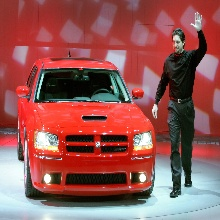no damage: (15, 58, 157, 202)
